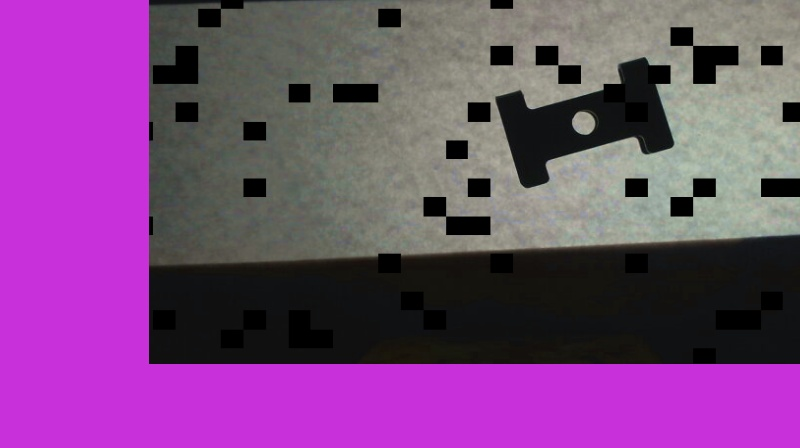O002: (489, 54, 677, 188)
